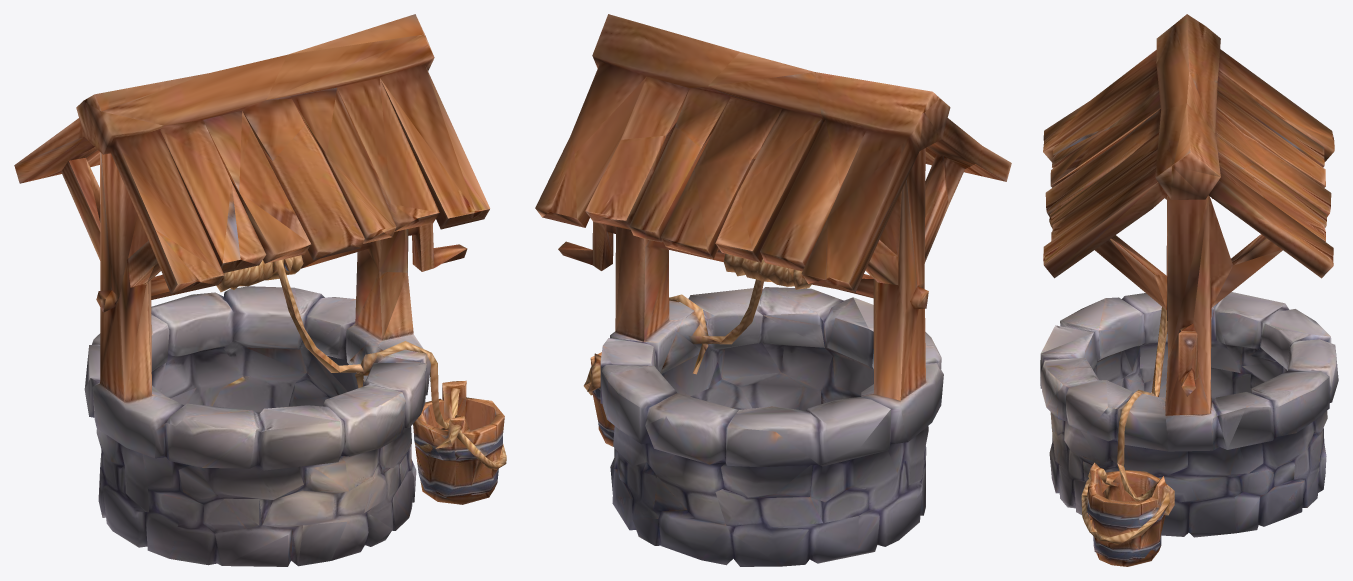
Rendered from well.glb.
3 renders of one model, left to right at view 1: azimuth 30°, elevation 25°; view 2: azimuth 150°, elevation 25°; view 3: azimuth 270°, elevation 25°, orthographic. The views are drawn at different scales.
Visible parts, largest first — view 1: well; view 2: well; view 3: well.
Boxes of the visible parts, box(x1,y1,x2,y2) form: well: box(14, 14, 506, 566); well: box(535, 14, 1011, 566); well: box(1040, 14, 1338, 566).
Size of the model in its own units: 2.35 by 2.7 by 1.84.
1 material, 1 textured.
